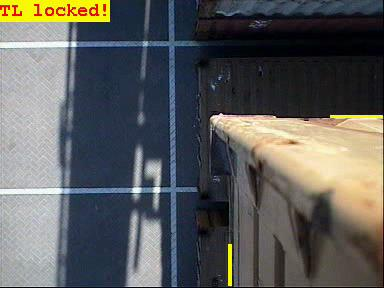groundmarker_2: (83, 111, 188, 186), (89, 235, 170, 288)
